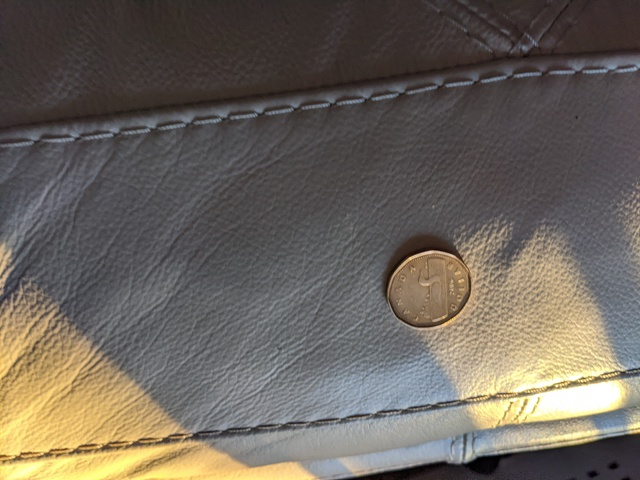loonie: (381, 238, 480, 325)
